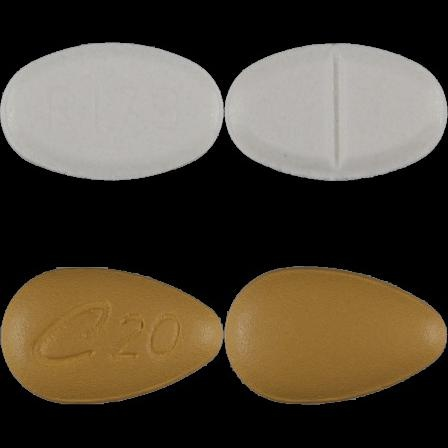54868-4964: (0, 0, 224, 224)
